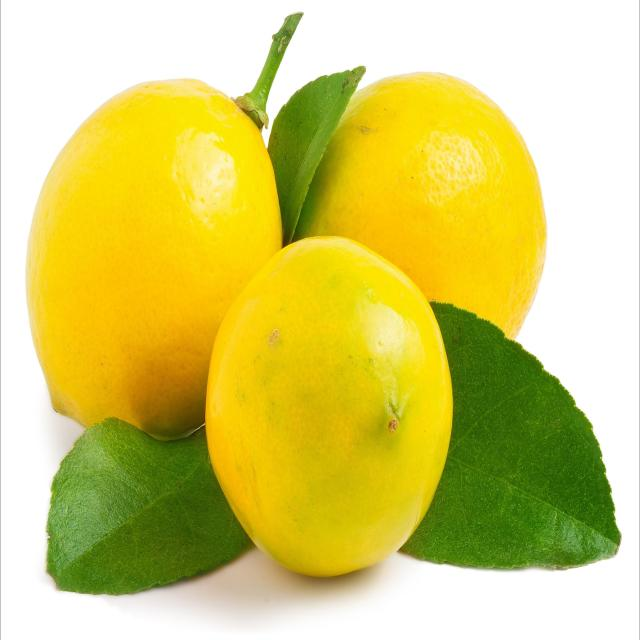lemon: (201, 229, 458, 584)
